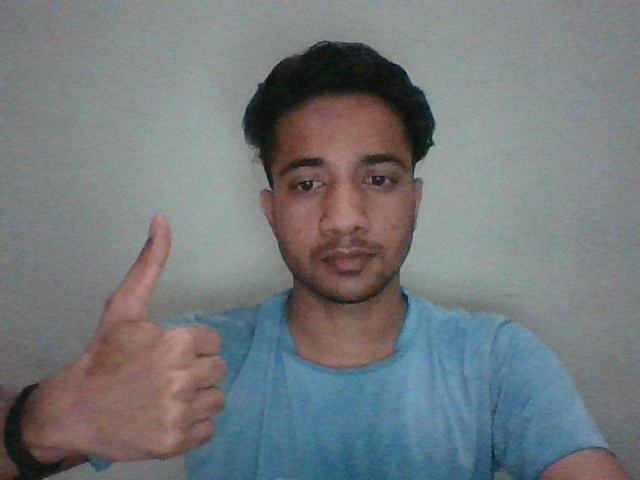thumbsup: (77, 213, 229, 457)
